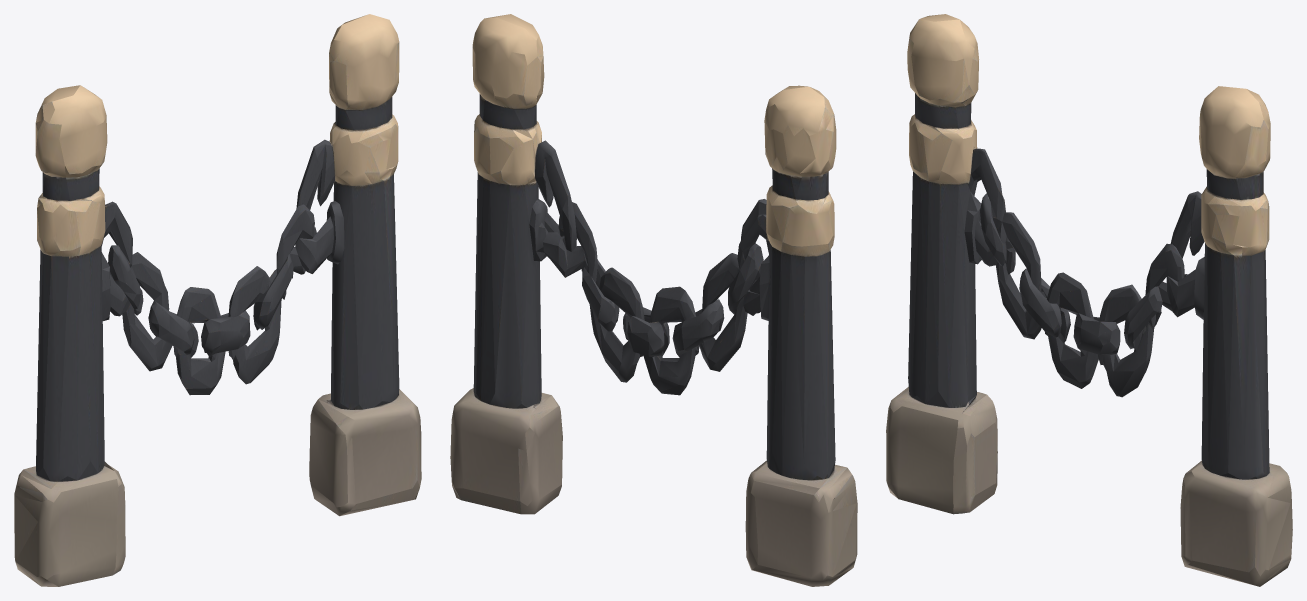
The model's file is harborFence.glb.
3 views of the same model, side by side, from view 1: azimuth 30°, elevation 25°; view 2: azimuth 150°, elevation 25°; view 3: azimuth 330°, elevation 25° (orthographic).
Parts seen in each view (by area): view 1: Mesh_0; view 2: Mesh_0; view 3: Mesh_0.
Part boxes in pixels (x1,y1,x2,y2): Mesh_0: (14, 14, 421, 586); Mesh_0: (450, 14, 857, 586); Mesh_0: (886, 14, 1292, 586).
Bounding box in the file's own units: 1 × 1.2 × 0.16.
1 material, 1 textured.
